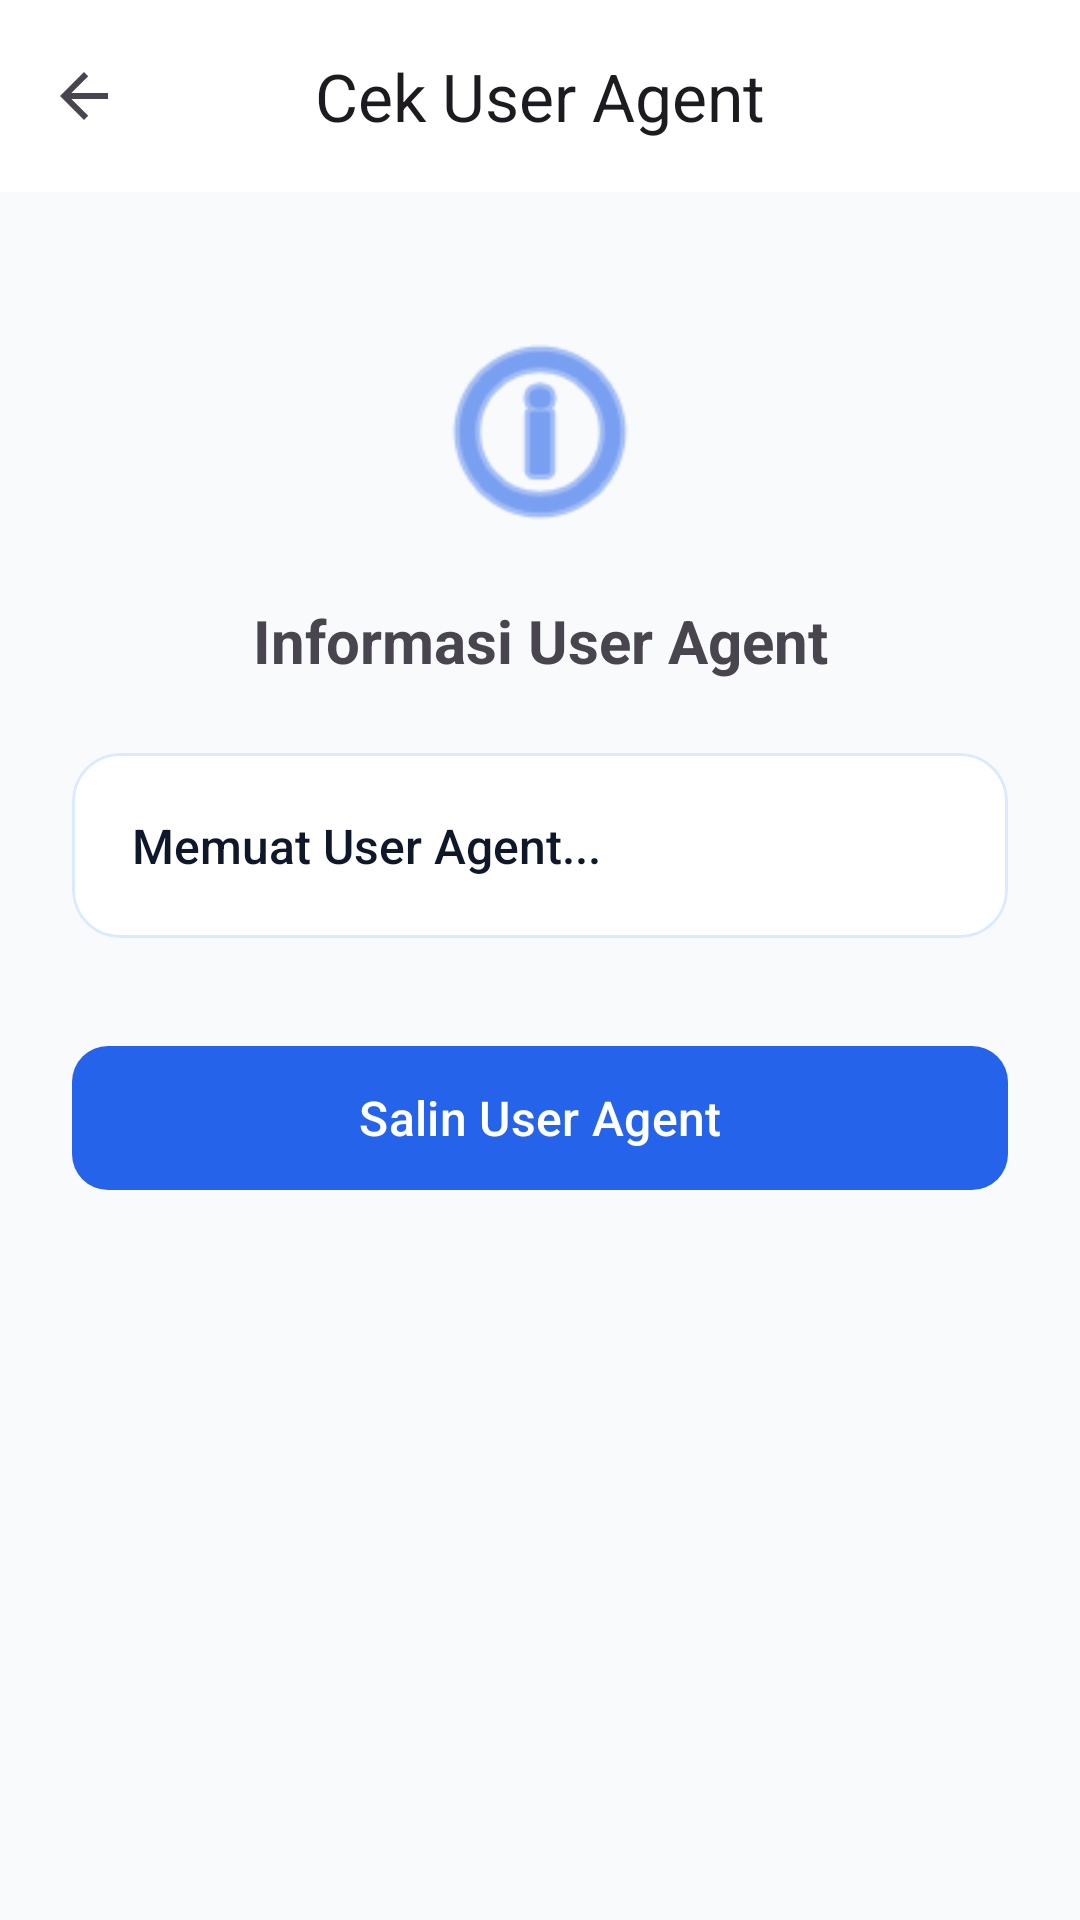

Screen size 1080*1920. Icon name, then its center in pixels as (x=x, y=y):
info details: (x=540, y=432)
